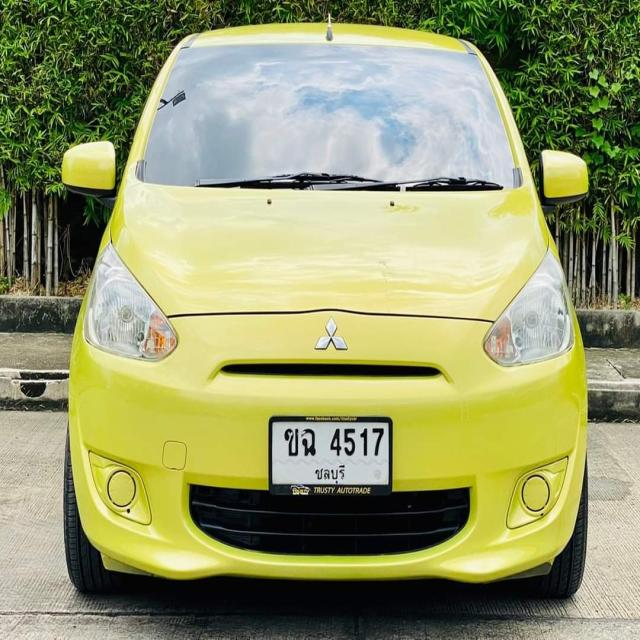license_plate: (267, 413, 394, 497)
